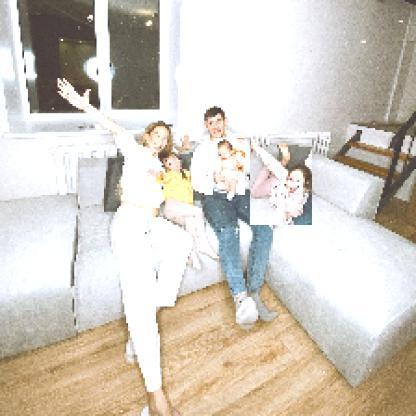child: (146, 155, 221, 270), (251, 135, 314, 227), (214, 139, 247, 201)
